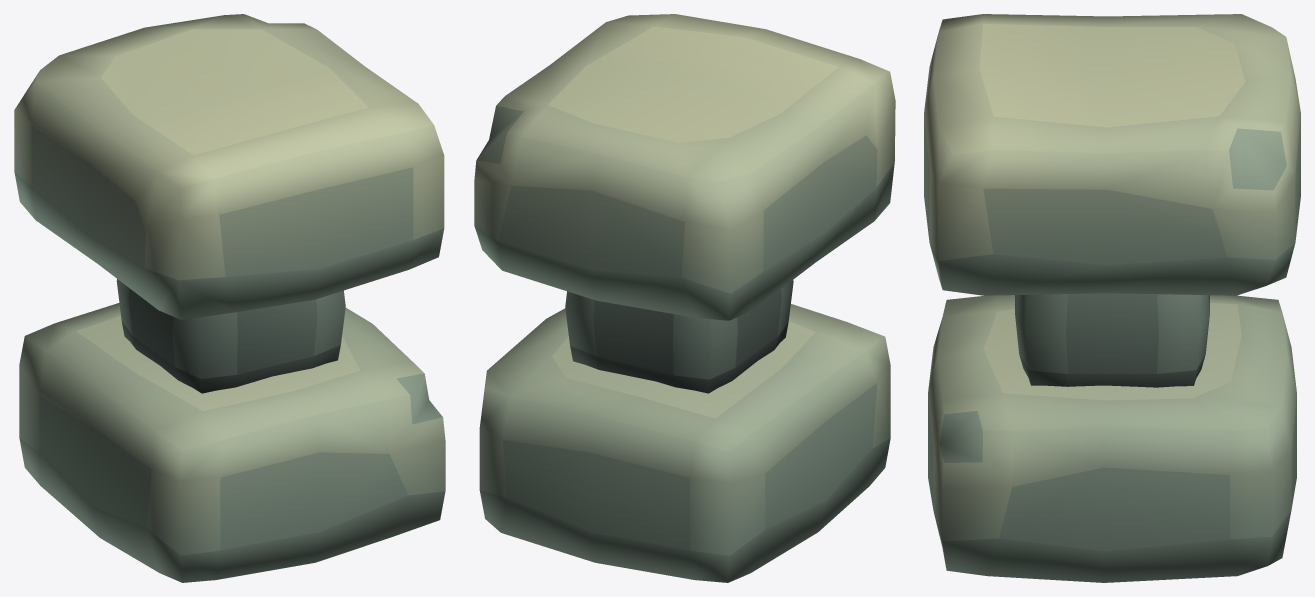
The model's file is rail2_1_stone1_LOD_group.fbx.
The picture shows the model from 3 angles, left to right: view 1: azimuth 30°, elevation 25°; view 2: azimuth 150°, elevation 25°; view 3: azimuth 270°, elevation 25°; orthographic projection. The views are drawn at different scales.
Visible parts, largest first — view 1: rail2_1_stone1_LOD0; view 2: rail2_1_stone1_LOD0; view 3: rail2_1_stone1_LOD0.
Part boxes in pixels (x1,y1,x2,y2): rail2_1_stone1_LOD0: [14, 14, 445, 582]; rail2_1_stone1_LOD0: [474, 14, 895, 582]; rail2_1_stone1_LOD0: [924, 14, 1300, 582].
Size of what is drawn, in the model's own units: 57.03 by 81.78 by 61.22.
Materials: 1 (1 with a texture image).
